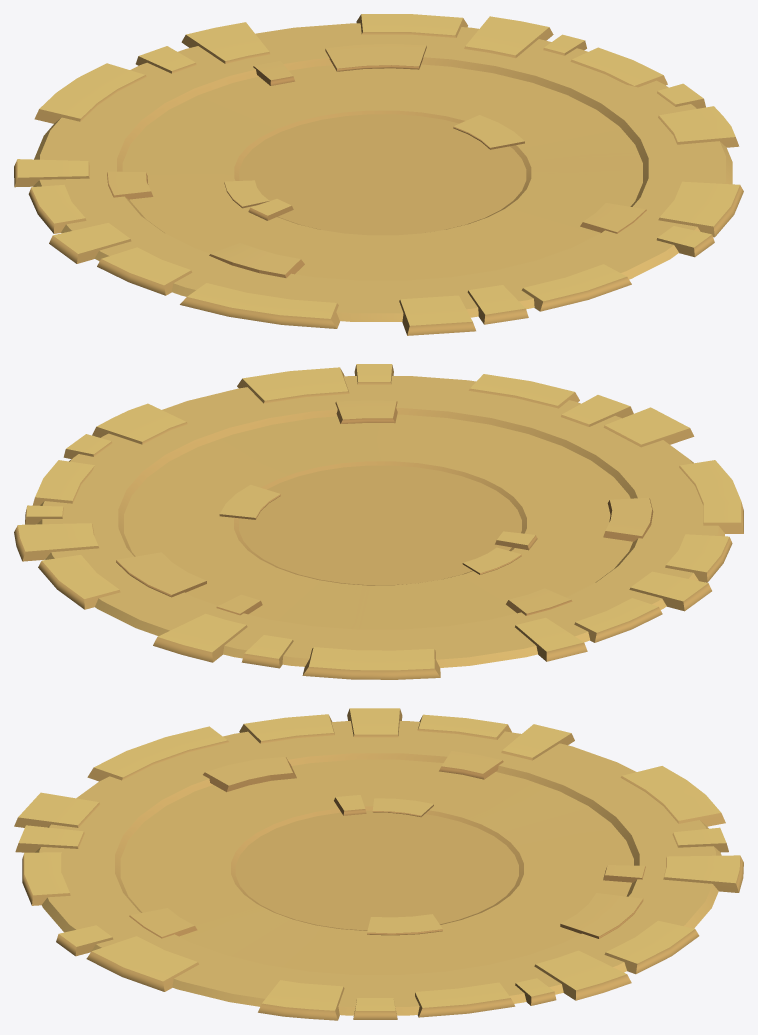
The model's file is SM_TA_Tile.FBX.
The picture shows the model from 3 angles, top to bottom: view 1: azimuth 30°, elevation 25°; view 2: azimuth 150°, elevation 25°; view 3: azimuth 270°, elevation 25°; orthographic projection.
Visible parts, largest first — view 1: Altar, RocksAltar; view 2: Altar, RocksAltar; view 3: Altar, RocksAltar.
Boxes of the visible parts, box(x1,y1,x2,y2) form: Altar: box(33, 23, 732, 321); RocksAltar: box(14, 14, 743, 335); Altar: box(37, 376, 724, 667); RocksAltar: box(14, 364, 743, 679); Altar: box(35, 721, 721, 1015); RocksAltar: box(14, 708, 743, 1020).
Bounding box in the file's own units: 71.97 × 1.01 × 72.73.
